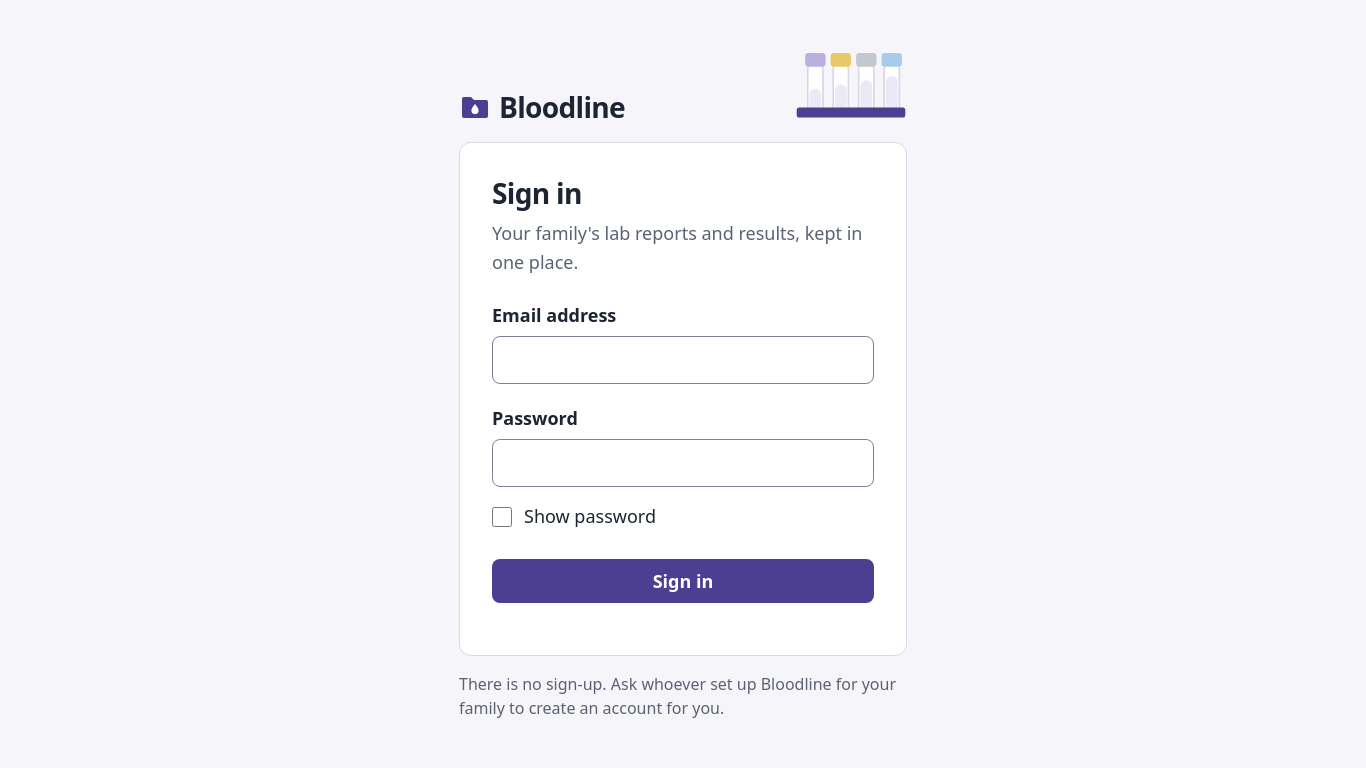
Test case: signing in › goes to the families list by default
Type "asha@example.com" into the field labelled "Email address". click: coordinates (683, 360)
box: [492,336,874,384]
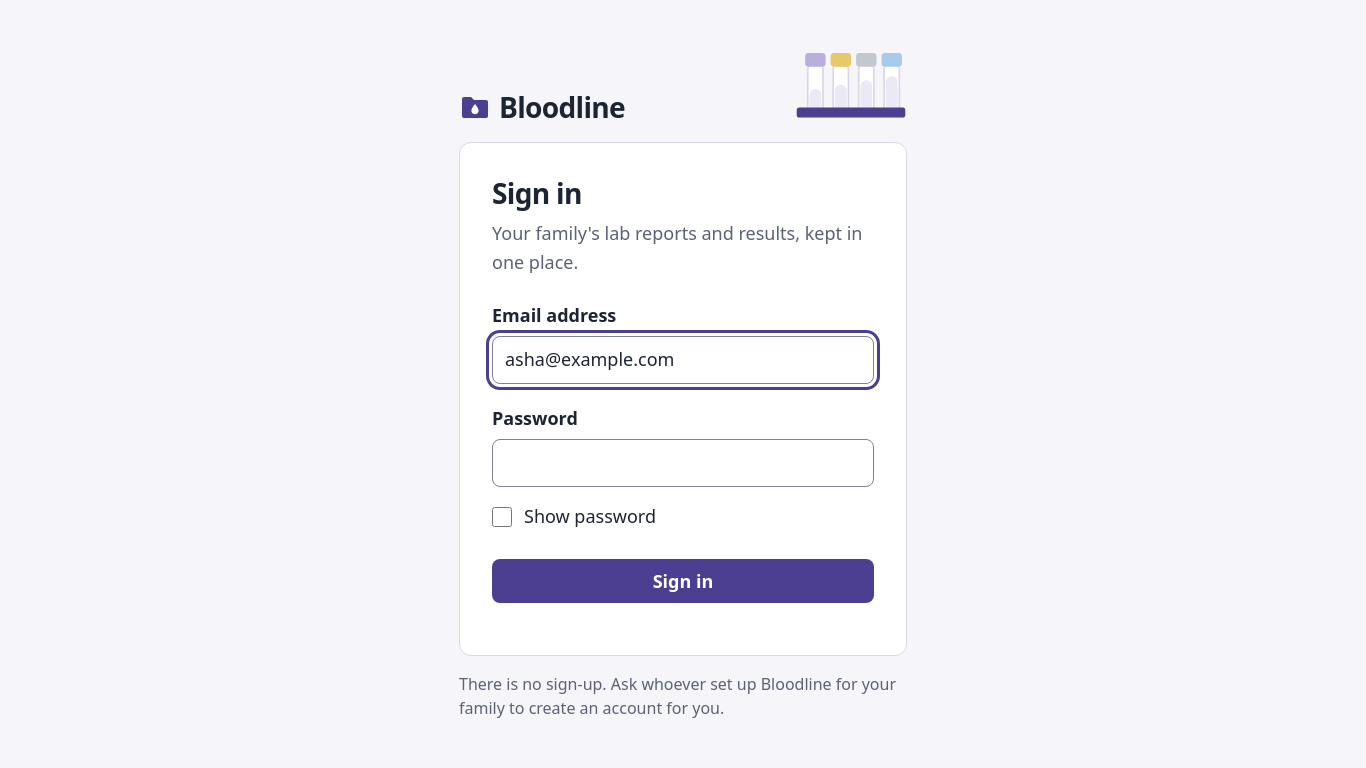
Type "correct horse battery staple" into the password field labelled "Password". click: coordinates (683, 462)
box: [492,438,874,486]
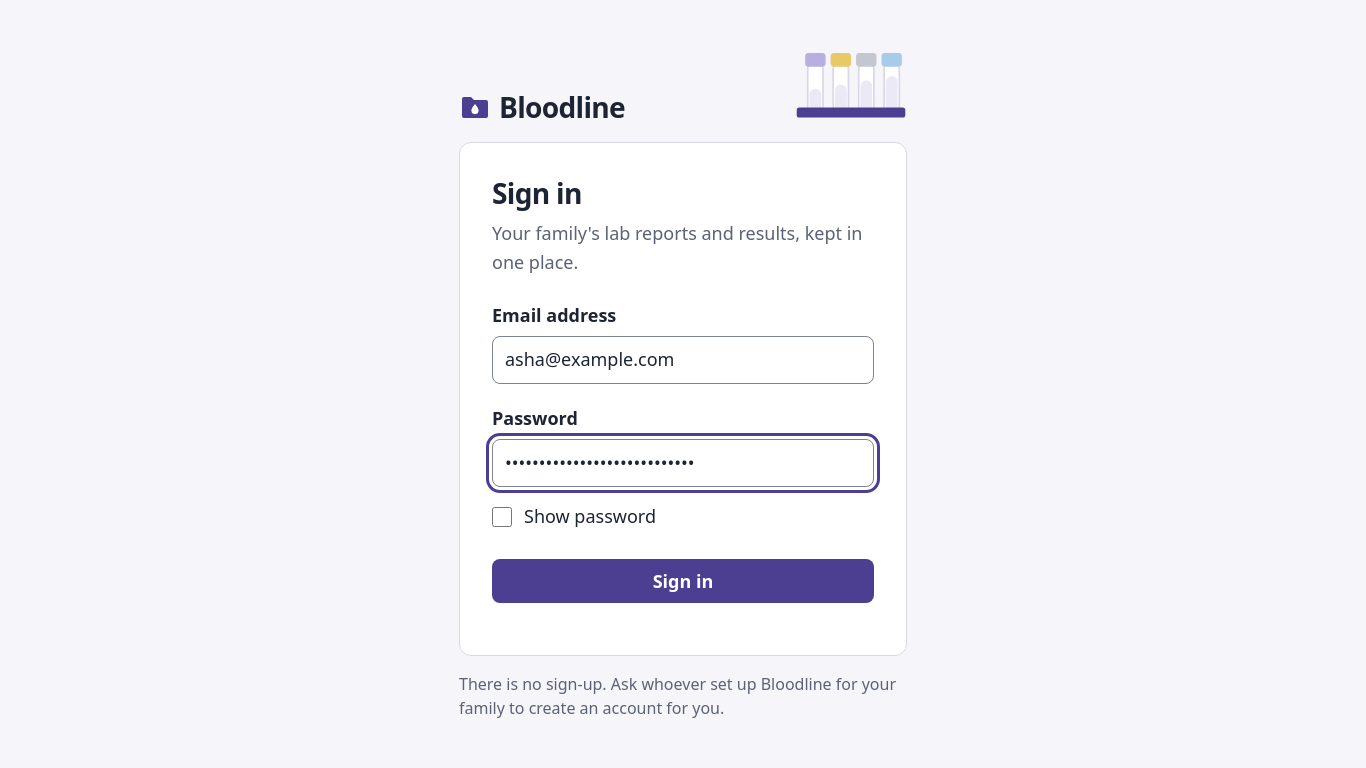
Click the button "Sign in". click: coordinates (683, 581)
box: [492,558,874,603]
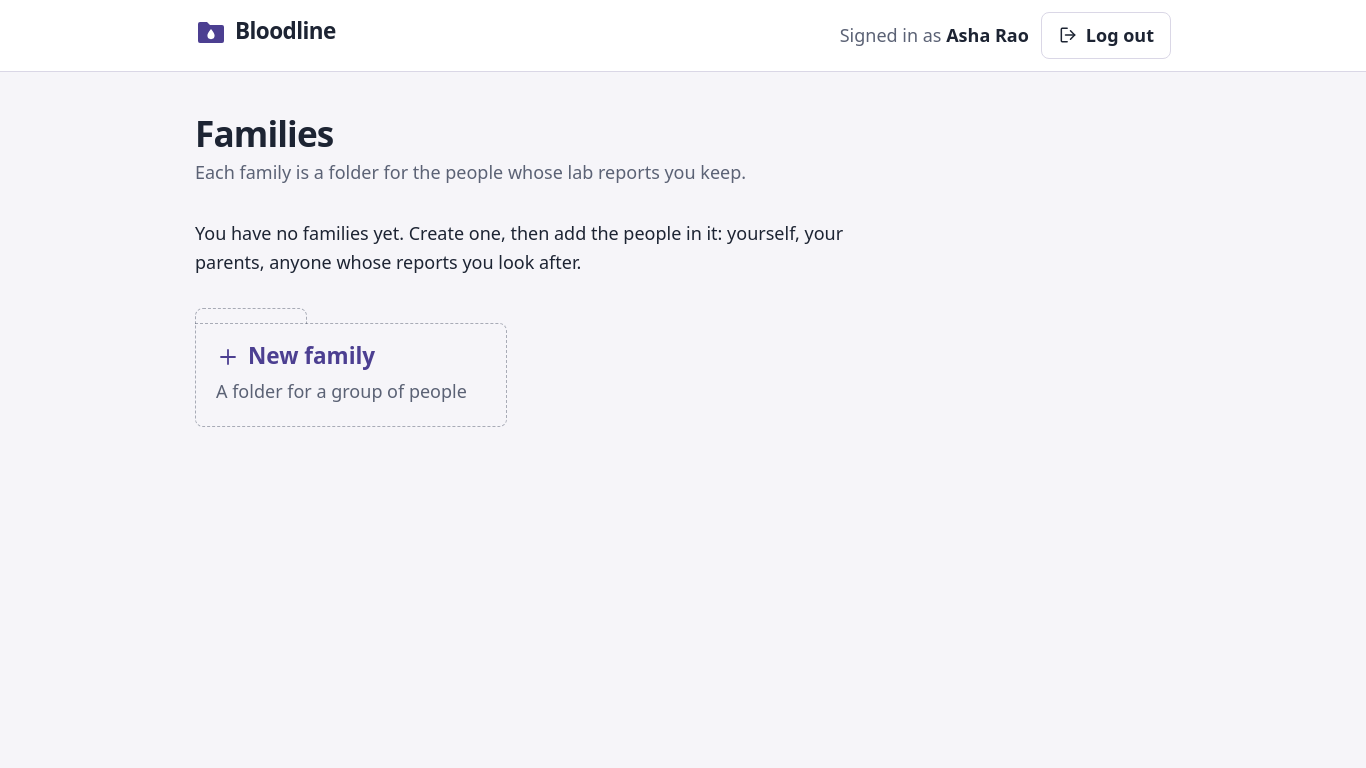
Now the heading "Families" is shown, box [195,109,333,157]
